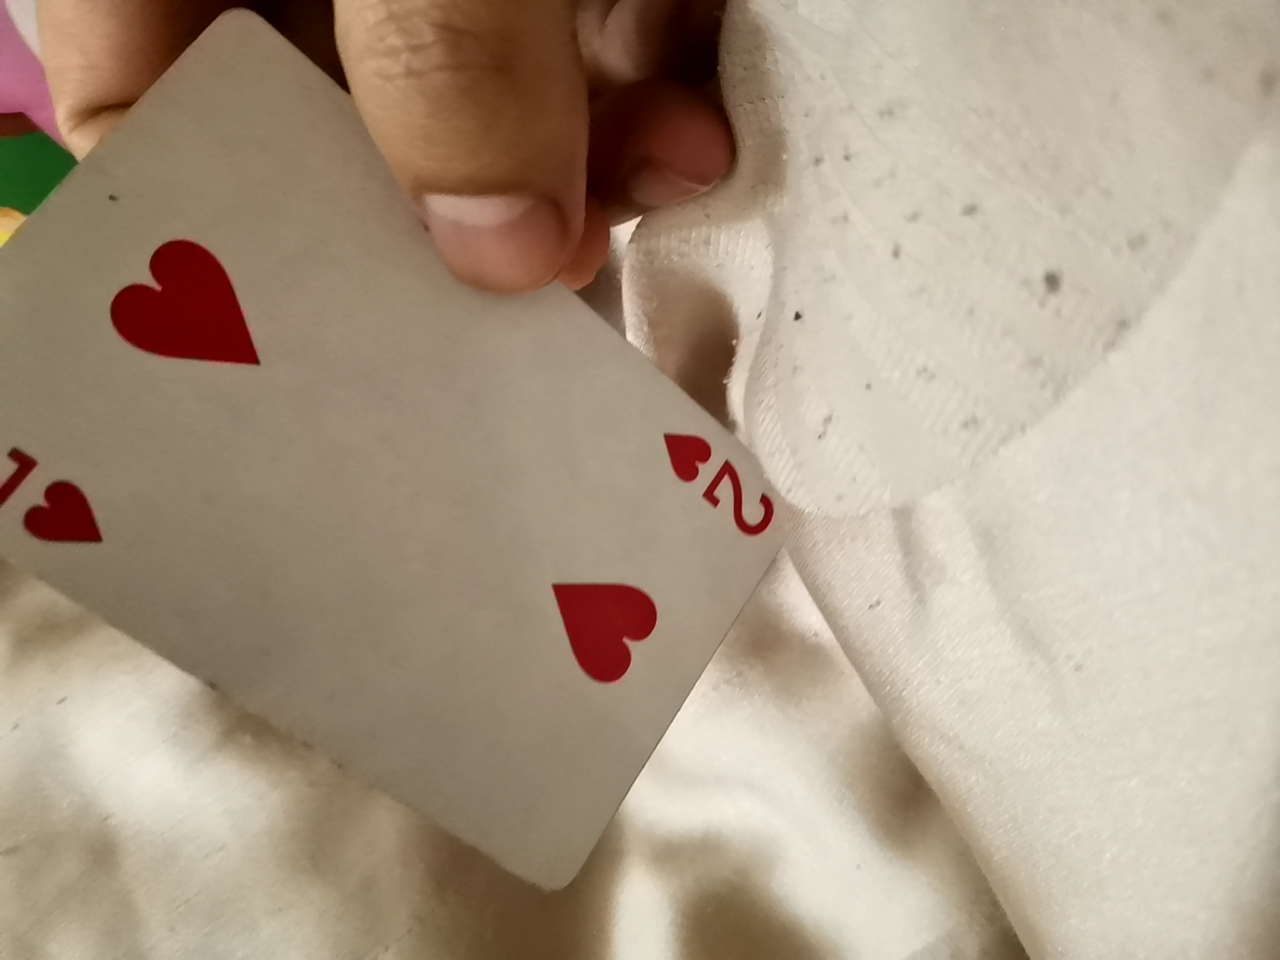hx 2: (3, 32, 843, 860)
